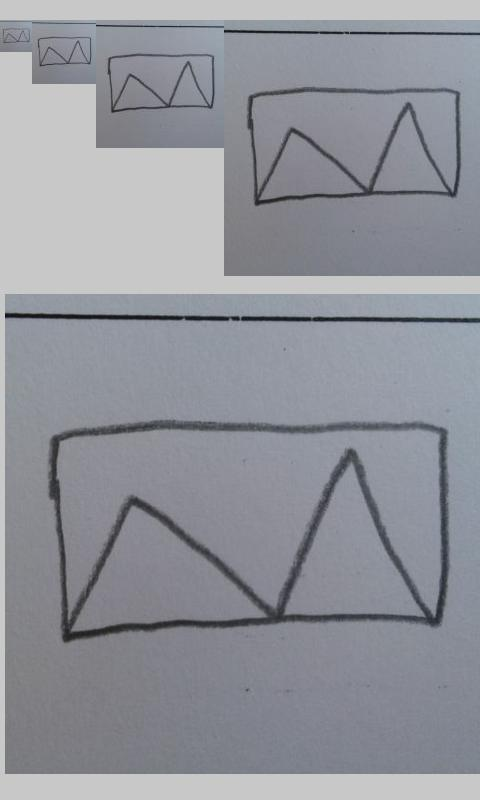image_view: (48, 414, 448, 639), (244, 86, 462, 208), (108, 53, 216, 112), (37, 36, 92, 67), (2, 28, 31, 44)
